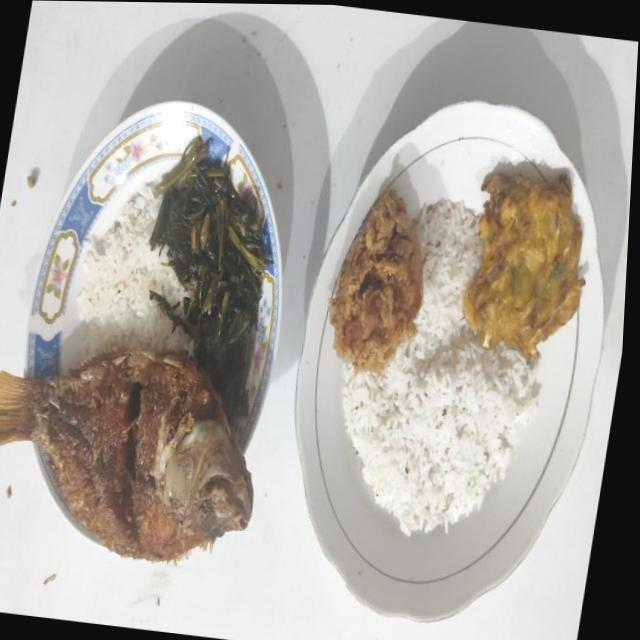ikan_mujair: (0, 347, 253, 560)
nasi_putih: (342, 199, 539, 535), (76, 184, 194, 358)
tumis_kangkung: (149, 135, 272, 415)
